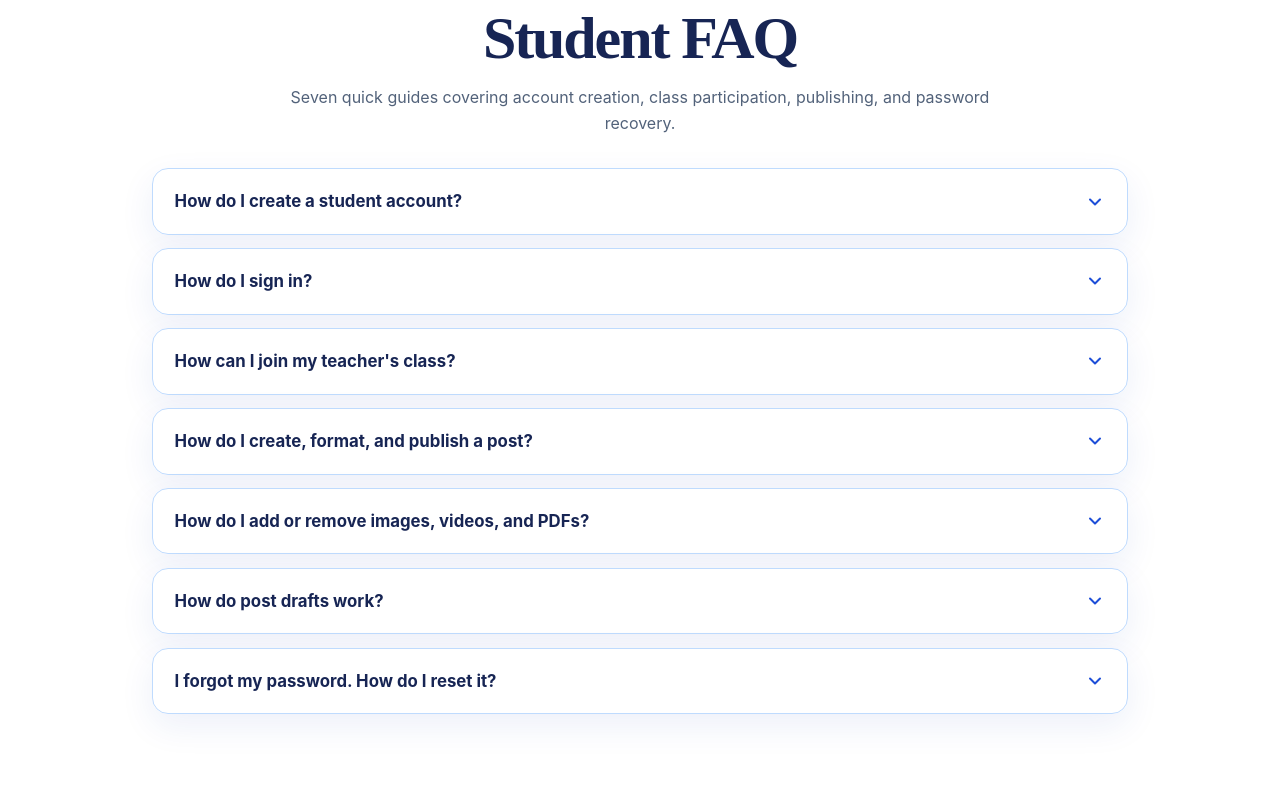
FAQ student guide › explains the complete forgotten-password reset flow and routes
The image size is (1280, 786).
(page scrolled)
Click the button "I forgot my password. How do I reset it?" at point(336, 681), box [153, 649, 1127, 713]
(page scrolled)
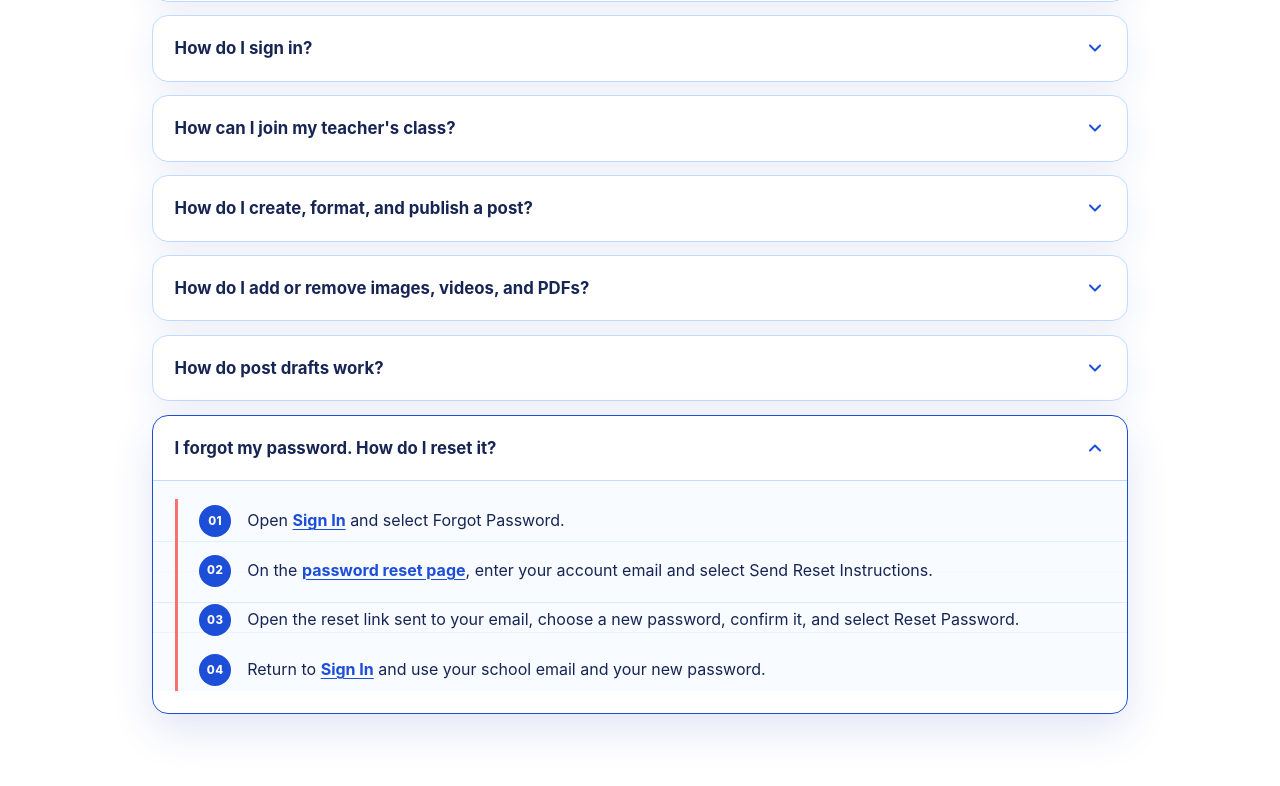
Expected: the number of links "Sign In" is 2, [292, 510, 346, 530]; [321, 659, 374, 679]
